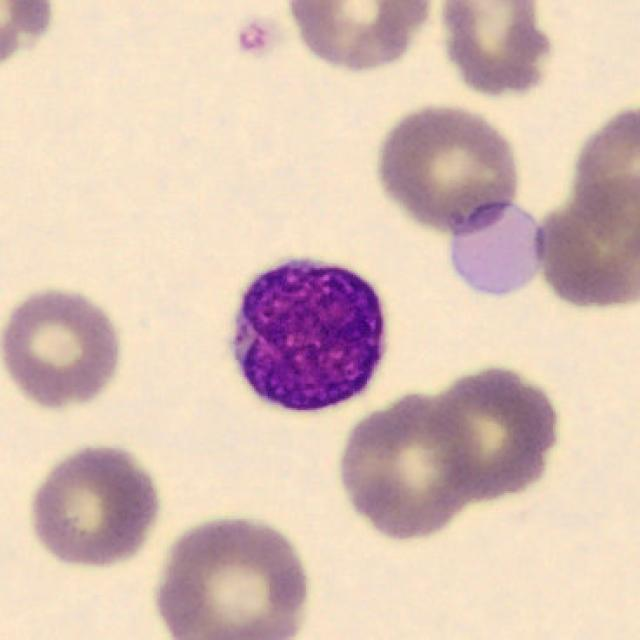Linfocito: (231, 259, 384, 413)
